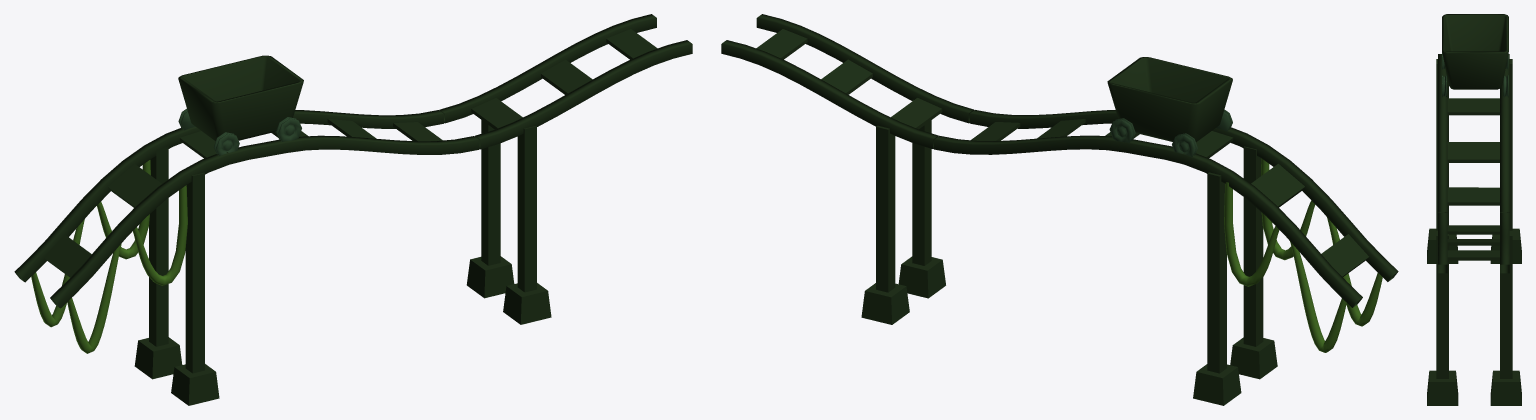
The model's file is Greybox__mineCar.fbx.
The picture shows the model from 3 angles, left to right: view 1: azimuth 30°, elevation 25°; view 2: azimuth 150°, elevation 25°; view 3: azimuth 270°, elevation 25°; orthographic projection. The views are drawn at different scales.
Parts seen in each view (by area): view 1: Cube.012; view 2: Cube.012; view 3: Cube.012.
Part boxes in pixels (left/top/right/bottom): Cube.012: left=14, top=14, right=692, bottom=405; Cube.012: left=721, top=14, right=1398, bottom=405; Cube.012: left=1427, top=14, right=1521, bottom=405.
Bounding box in the file's own units: 1201 × 517 × 177.
